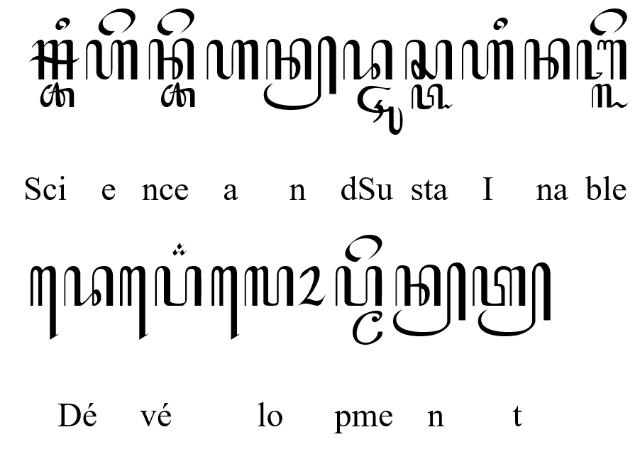-n: (392, 260, 468, 338), (263, 34, 337, 110)
-t: (471, 261, 552, 337)
S: (29, 39, 80, 79)
_Tu: (356, 84, 404, 136)
_c: (40, 81, 76, 108), (160, 82, 196, 108)
_l: (590, 83, 630, 109)
_m: (351, 310, 384, 346)
_t: (412, 83, 454, 111)
alt: (172, 242, 188, 256)
b: (575, 38, 627, 80)
d: (342, 38, 393, 82), (63, 265, 114, 307)
e: (344, 234, 384, 262), (98, 8, 136, 36), (156, 8, 194, 36), (589, 8, 627, 36)
e1: (29, 265, 59, 341), (120, 265, 148, 339), (211, 265, 239, 339)
h: (205, 38, 259, 82), (85, 39, 139, 81), (462, 40, 514, 80)
i: (493, 17, 509, 32), (54, 16, 70, 30)
l: (244, 266, 294, 306)
n: (524, 38, 572, 80), (148, 39, 194, 80)
o: (298, 264, 328, 306)
p: (154, 265, 202, 307), (334, 266, 382, 306)
s: (404, 40, 454, 80)
